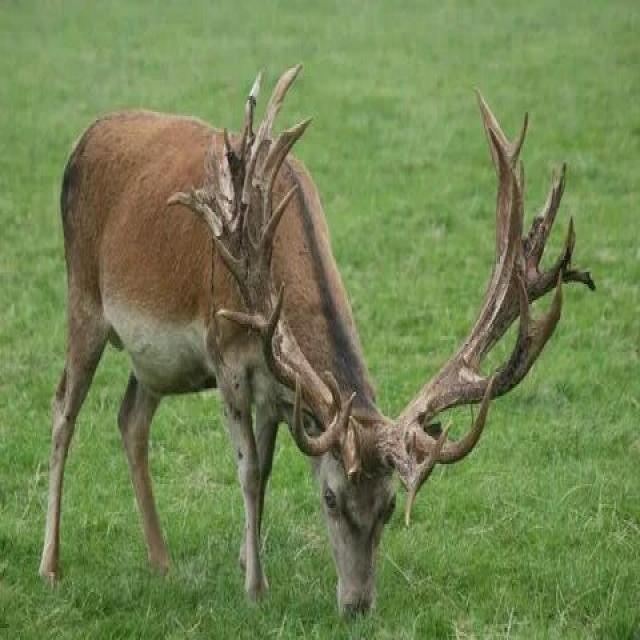deer: (62, 62, 454, 603)
